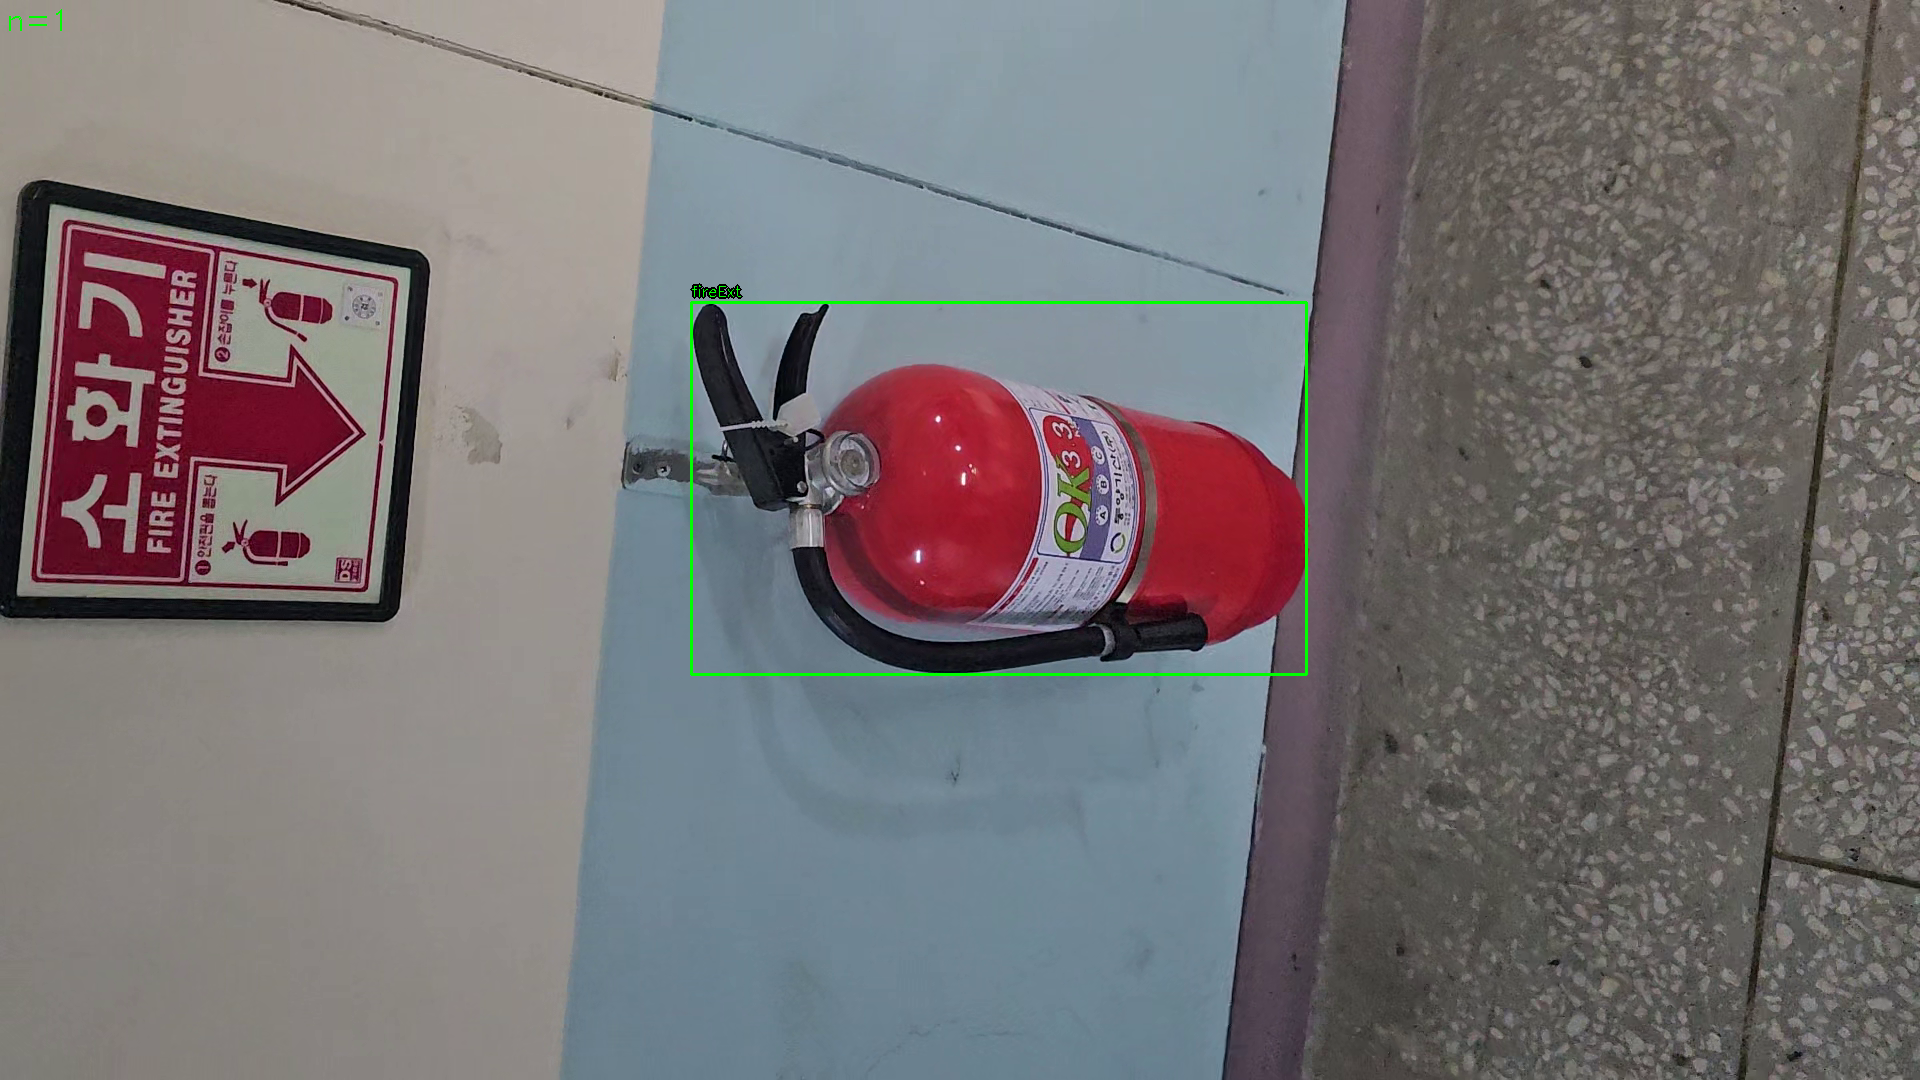lane: (691, 302, 1307, 675)
